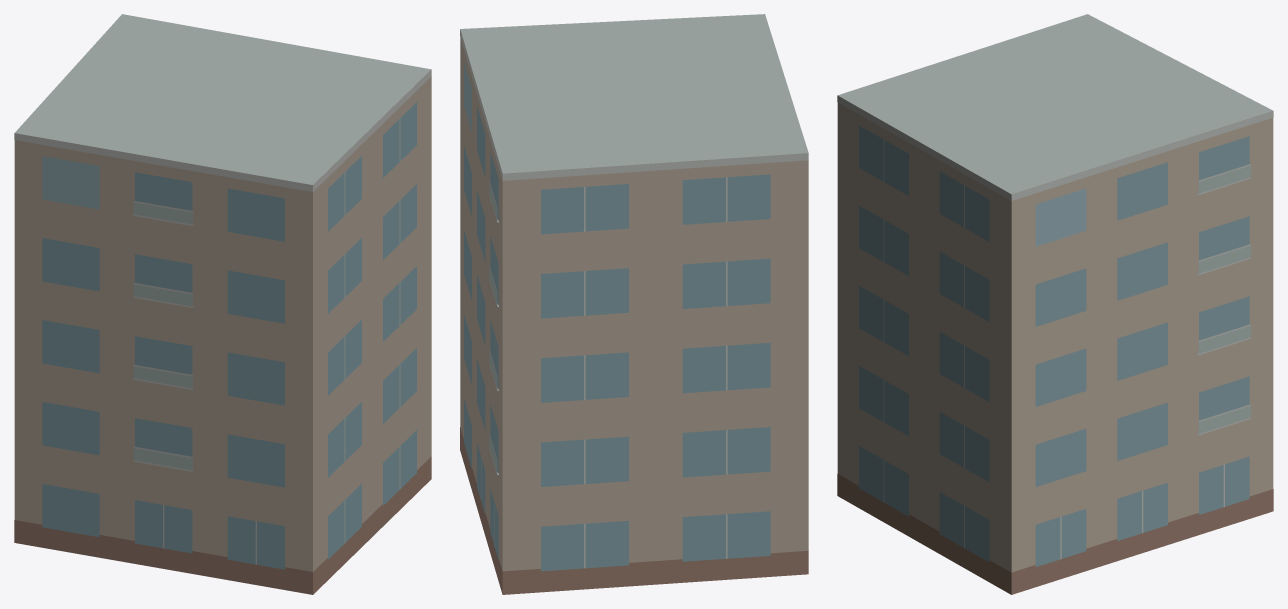
The model's file is survey-upis-32529499.glb.
The picture shows the model from 3 angles, left to right: view 1: azimuth 30°, elevation 25°; view 2: azimuth 150°, elevation 25°; view 3: azimuth 270°, elevation 25°; orthographic projection. The views are drawn at different scales.
Visible parts, largest first — view 1: survey-upis-32529499.tmp; view 2: survey-upis-32529499.tmp; view 3: survey-upis-32529499.tmp.
Boxes of the visible parts, bbox=[...] form: survey-upis-32529499.tmp: bbox=[14, 14, 431, 594]; survey-upis-32529499.tmp: bbox=[460, 14, 808, 594]; survey-upis-32529499.tmp: bbox=[837, 14, 1273, 594].
Size of the model in its own units: 13.91 by 14.4 by 14.21.
